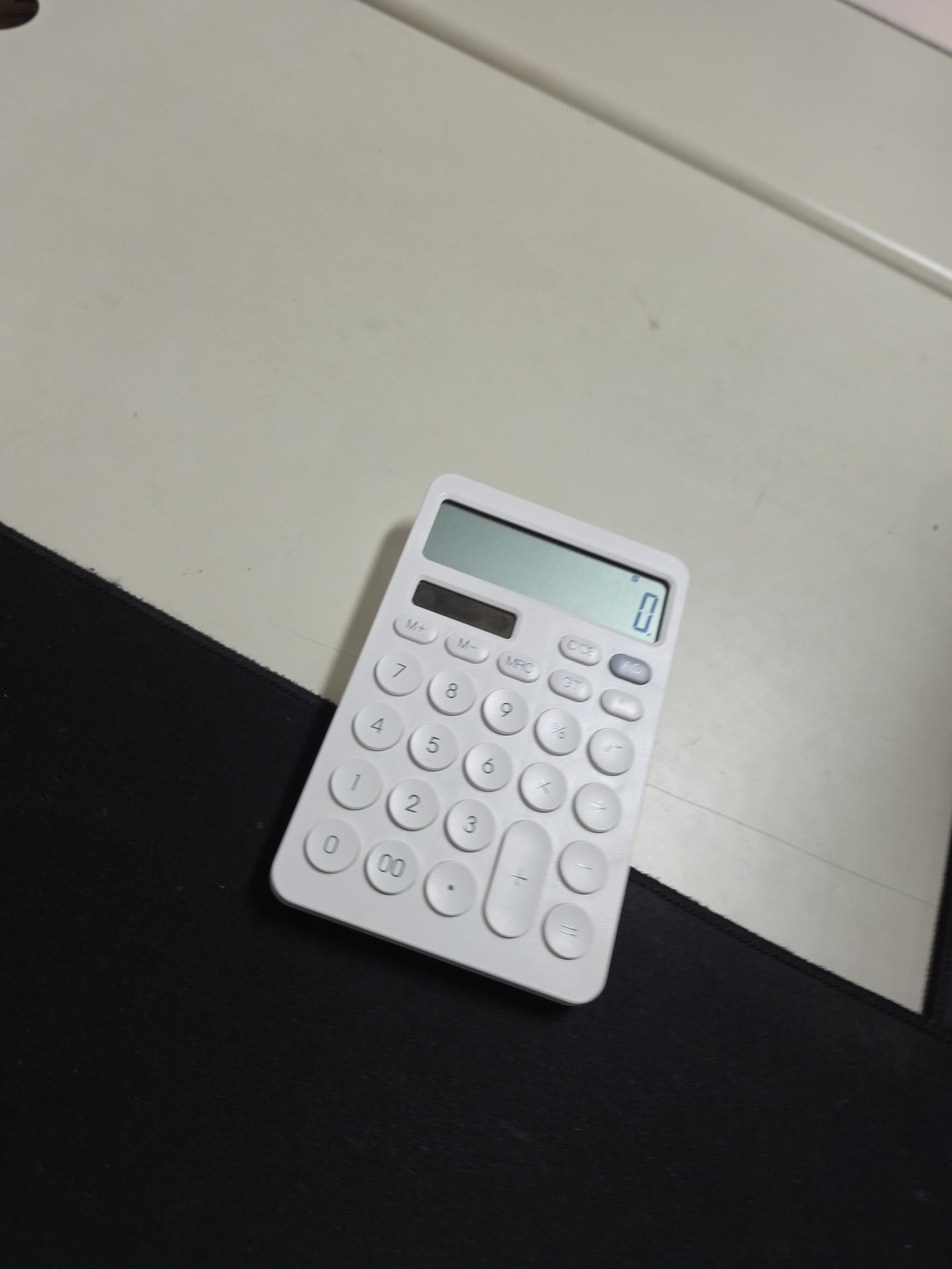calculator: (268, 474, 690, 1007)
